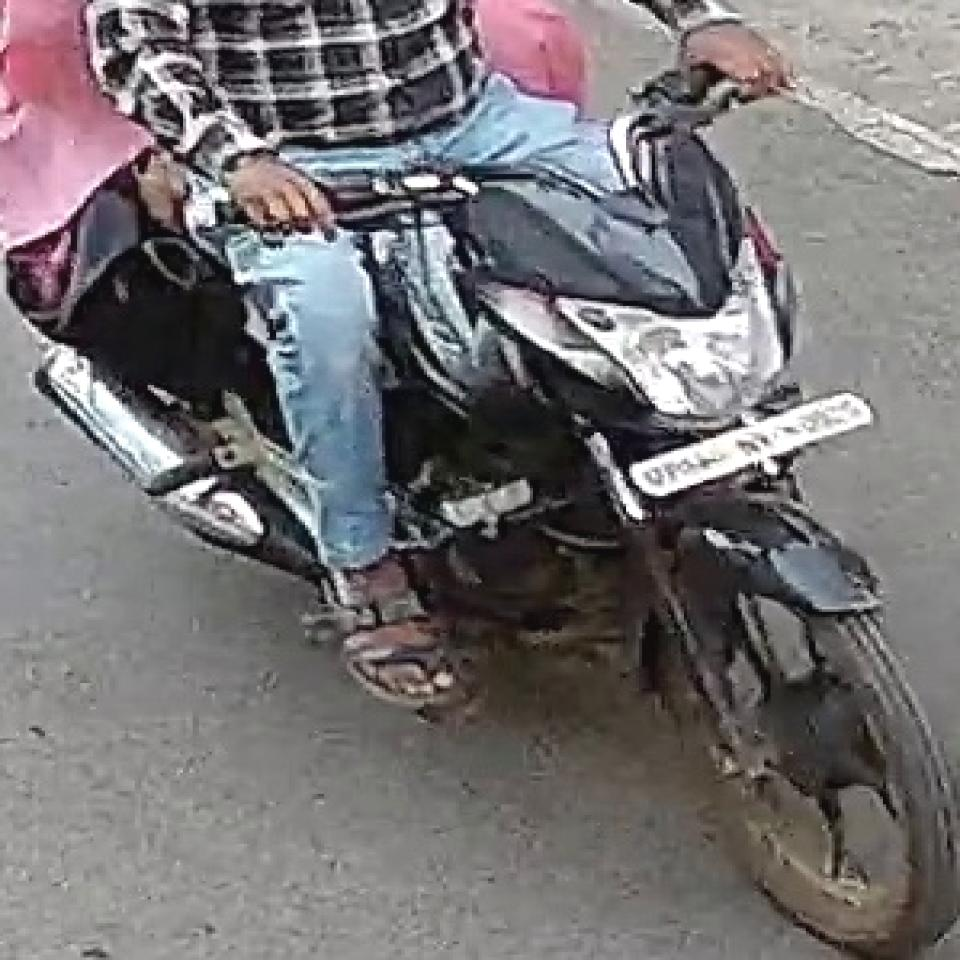head_light: (590, 271, 781, 427)
